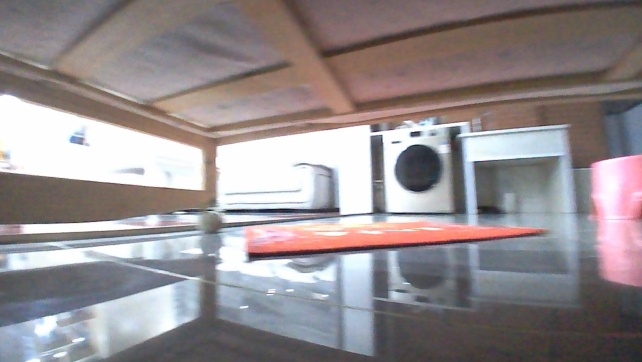blanket: (238, 219, 547, 261)
washing_machine: (377, 123, 460, 216)
